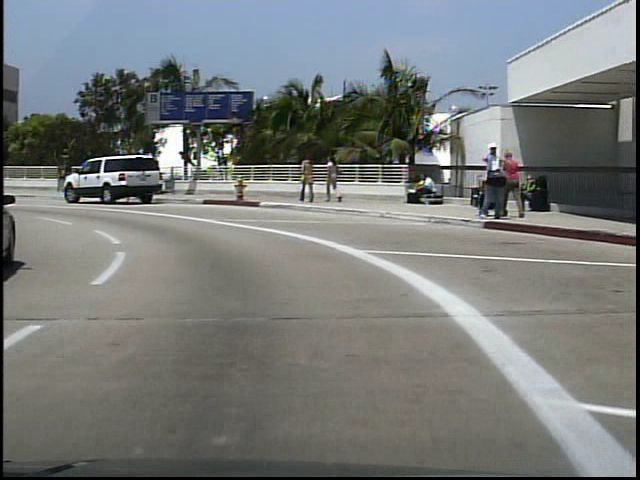person: (479, 139, 503, 222), (501, 147, 522, 221), (323, 153, 344, 207), (297, 149, 316, 206), (409, 173, 434, 207)
